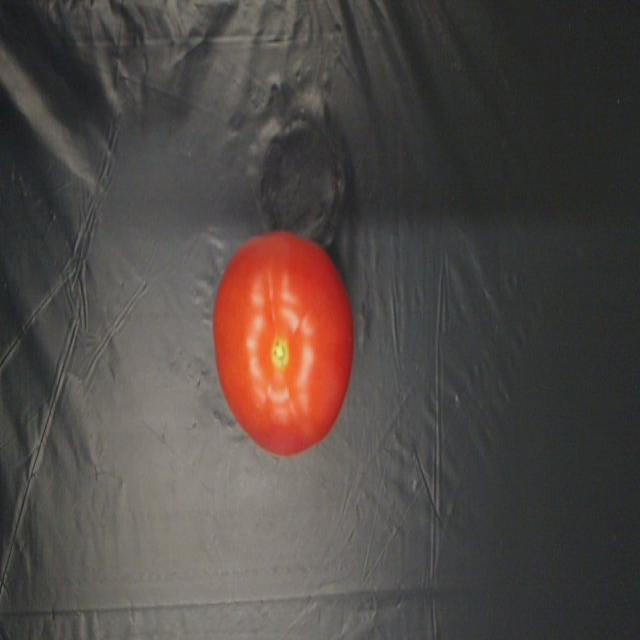kirmizi: (174, 206, 408, 486)
